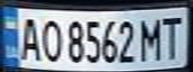2: (115, 16, 139, 64)
5: (81, 16, 103, 64)
6: (100, 17, 121, 64)
8: (63, 16, 84, 64)
A: (15, 12, 42, 62)
M: (136, 14, 166, 62)
O: (36, 15, 63, 63)
T: (157, 12, 187, 61)
